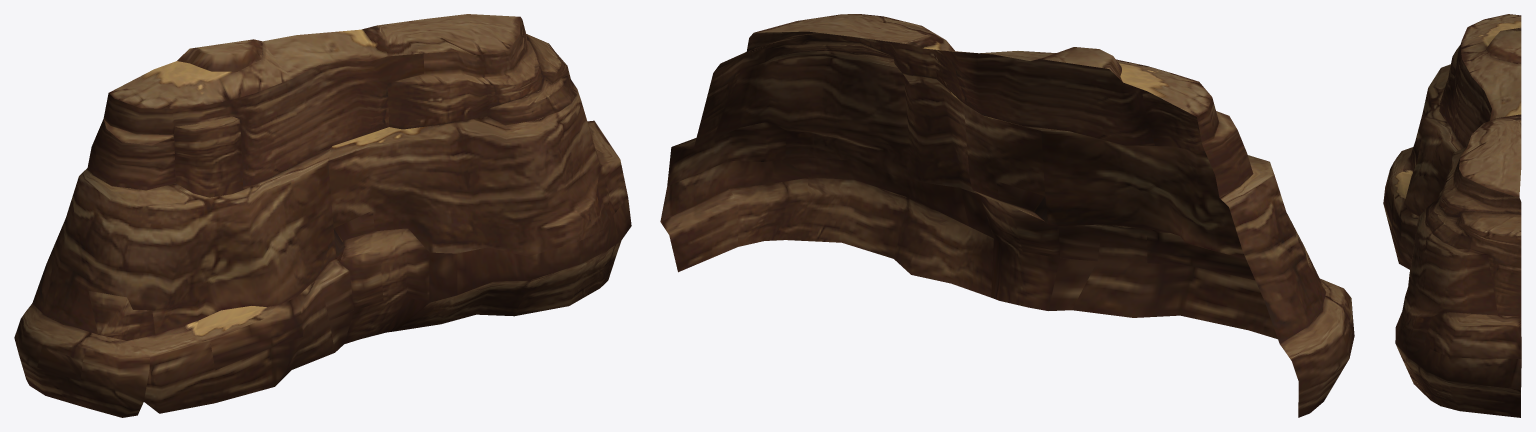
The model's file is nashgar_construct_rock_large02_02.FBX.
The picture shows the model from 3 angles, left to right: view 1: azimuth 30°, elevation 25°; view 2: azimuth 150°, elevation 25°; view 3: azimuth 270°, elevation 25°; orthographic projection. The views are drawn at different scales.
Parts seen in each view (by area): view 1: nashgar_construct_rock_large02_02; view 2: nashgar_construct_rock_large02_02; view 3: nashgar_construct_rock_large02_02.
Part boxes in pixels (<box>): nashgar_construct_rock_large02_02: <box>14,14,631,417</box>; nashgar_construct_rock_large02_02: <box>660,14,1354,417</box>; nashgar_construct_rock_large02_02: <box>1383,14,1521,417</box>.
Bounding box in the file's own units: 13.81 × 6.26 × 3.37.
